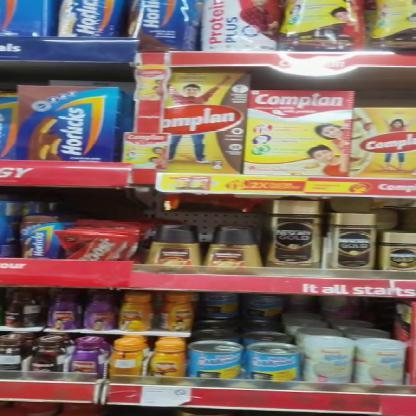Complan Kesar Badam: (244, 87, 354, 176), (356, 106, 414, 176)
Complan Royal Chocolate: (168, 71, 247, 172)
